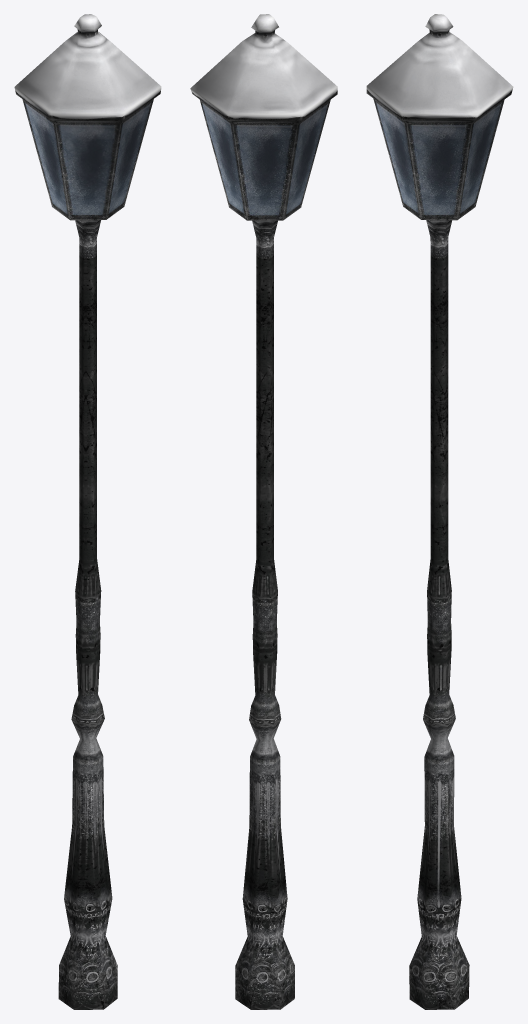
File: Street Light.FBX
3 views of the same model, side by side, from view 1: azimuth 30°, elevation 25°; view 2: azimuth 150°, elevation 25°; view 3: azimuth 270°, elevation 25° (orthographic).
Visible parts, largest first — view 1: Street Light; view 2: Street Light; view 3: Street Light.
Boxes of the visible parts, x1,y1,x2,y2 form: Street Light: [14, 14, 161, 1009]; Street Light: [190, 14, 337, 1009]; Street Light: [366, 14, 513, 1009].
Bounding box in the file's own units: 4084 × 34419 × 4669.
Materials: 1 (1 with a texture image).
